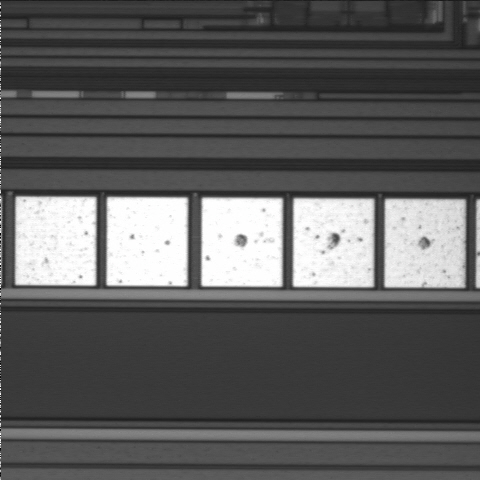pad: (106, 197, 188, 286), (201, 198, 283, 287), (15, 197, 96, 286), (293, 198, 374, 287), (385, 199, 465, 288)
